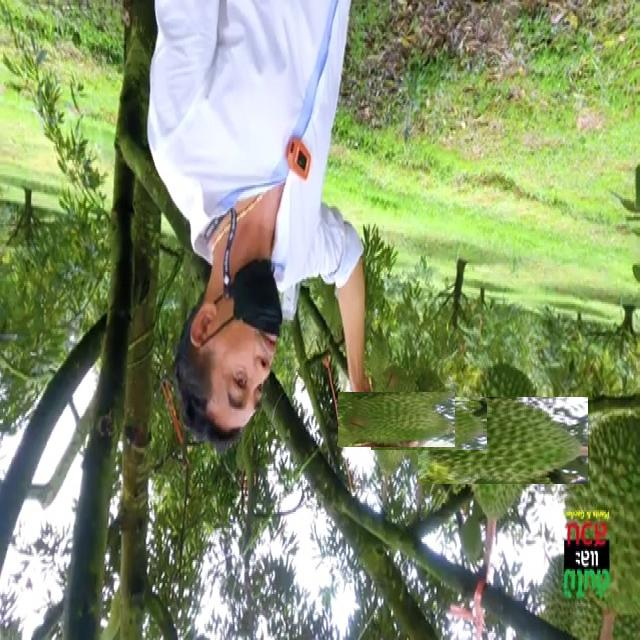durian: (438, 376, 568, 506), (562, 409, 640, 615), (353, 376, 439, 463), (388, 385, 470, 467)
